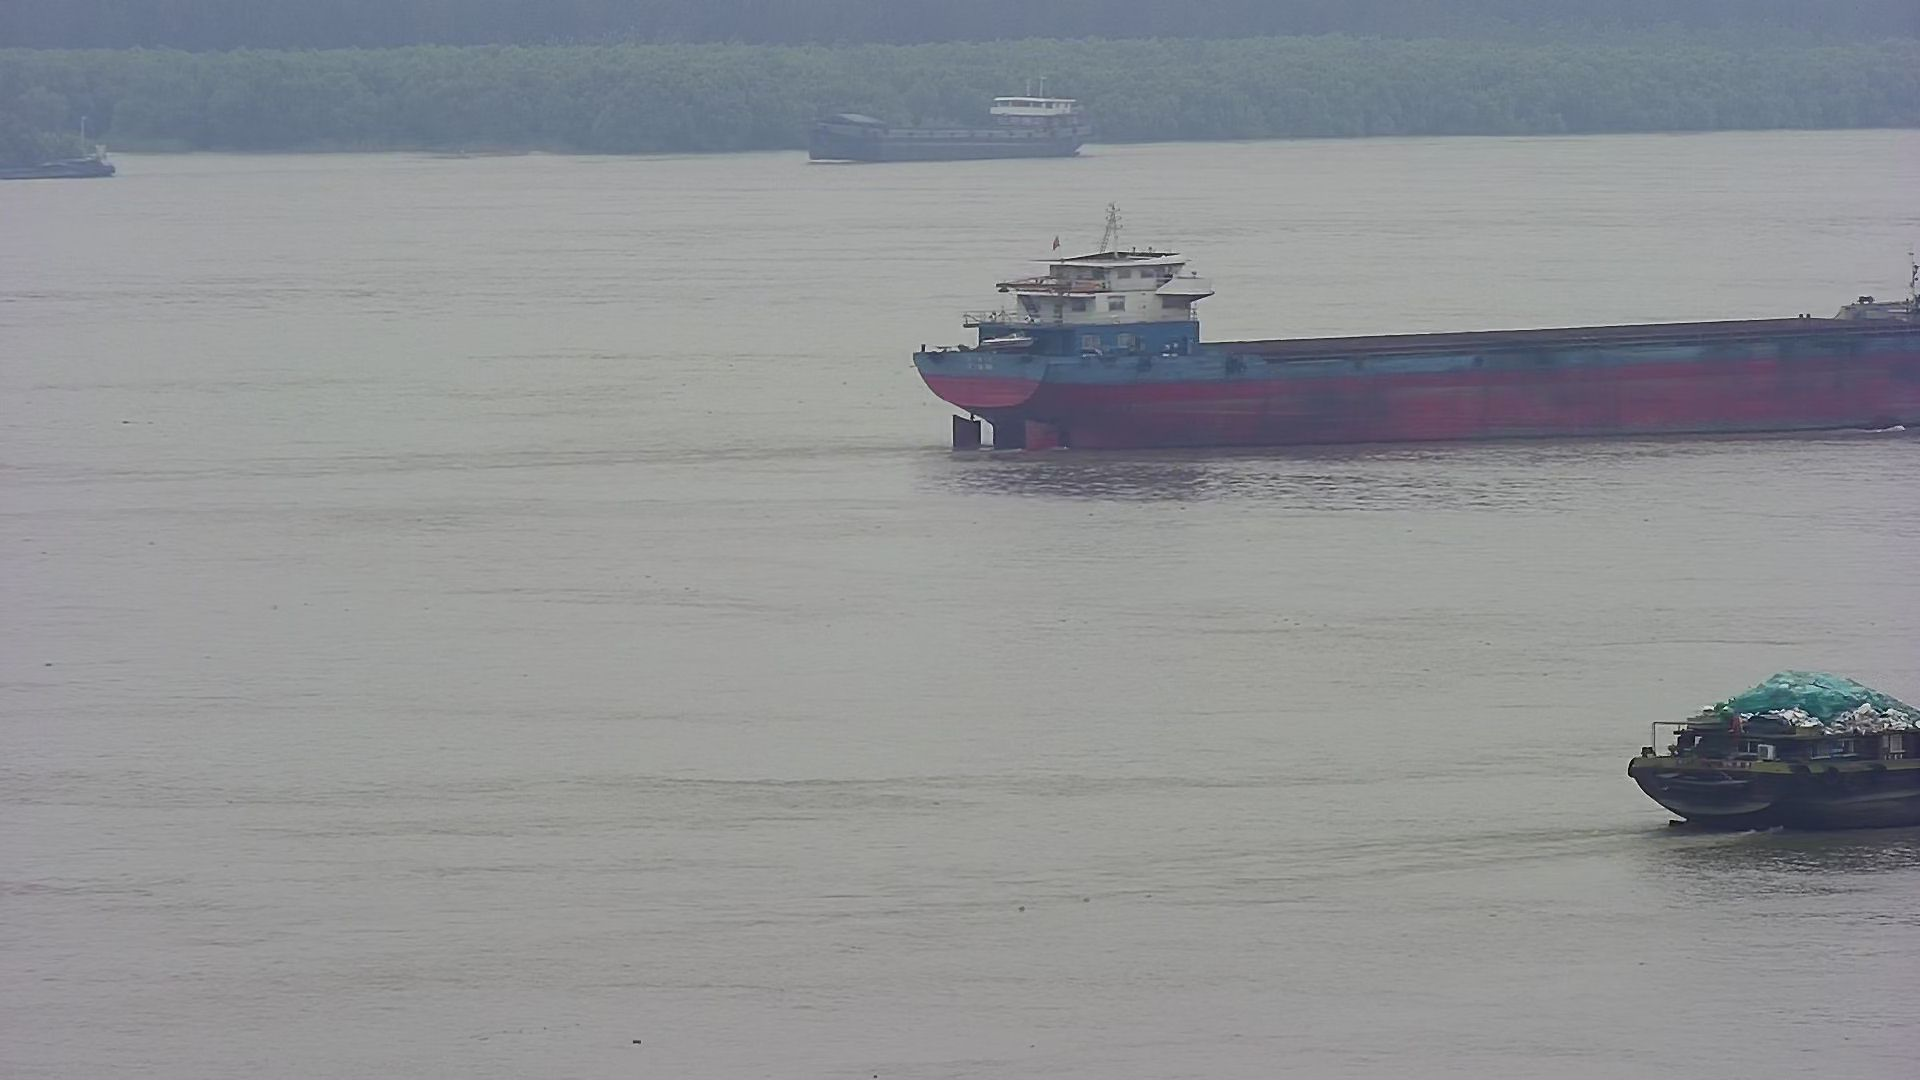boat: (1, 90, 120, 179)
ship: (913, 235, 1920, 467), (1625, 673, 1920, 837), (810, 82, 1104, 173)
